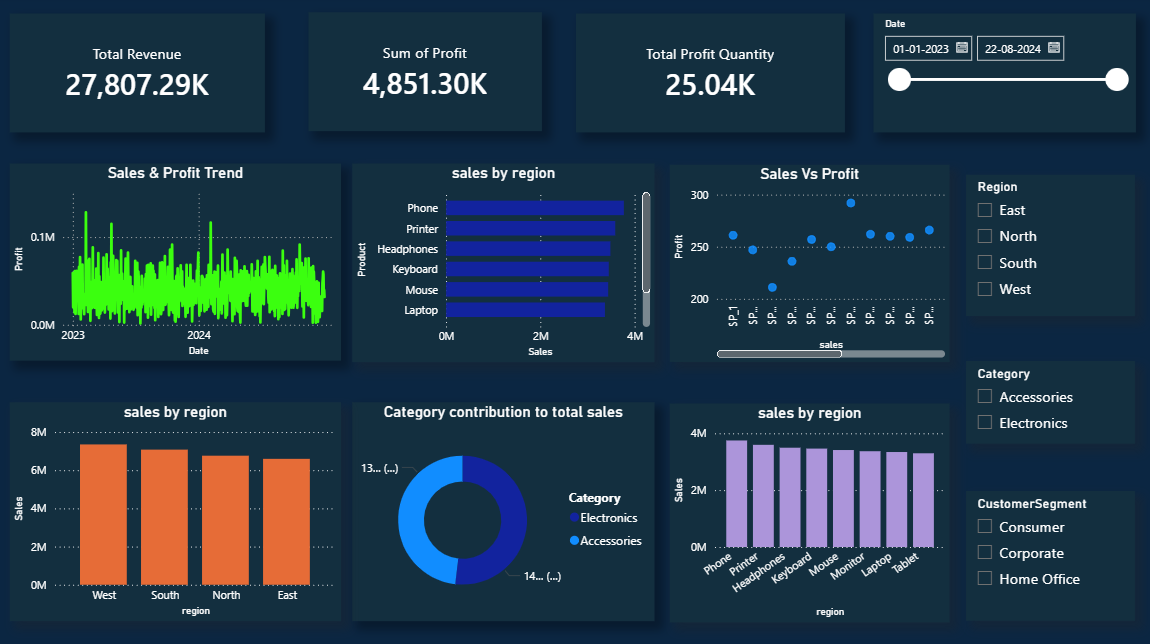

Layout of this report page (visuals, bound fields, positions):
{"tool":"powerbi","page":{"name":"Page 1","canvas":[1280,720],"ordinal":0},"visuals":[{"type":"cardVisual","fields":{"Data":["Sum(sales_dashboard_dataset_5000.SalesAmount)"]},"box":[15.2,19.3,281.4,131.1],"z":0},{"type":"cardVisual","fields":{"Data":["Sum(sales_dashboard_dataset_5000.Profit)"]},"box":[344.9,17.9,258,131.1],"z":1000},{"type":"cardVisual","fields":{"Data":["Sum(sales_dashboard_dataset_5000.Quantity)"]},"box":[640.1,19.3,296.6,131.1],"z":2000},{"type":"slicer","fields":{"Values":["SalesData.Order Date"]},"box":[968.5,19.3,289.7,131.1],"z":3000},{"type":"lineChart","title":"Sales & Profit Trend","fields":{"Y":["Sum(sales_dashboard_dataset_5000.SalesAmount)"],"Category":["sales_dashboard_dataset_5000.Date"]},"box":[15.2,184.9,365.6,218],"z":4000},{"type":"donutChart","title":" Category contribution to total sales ","fields":{"Y":["Sum(sales_dashboard_dataset_5000.SalesAmount)"],"Category":["sales_dashboard_dataset_5000.Category"]},"box":[393.2,448.4,333.9,241.4],"z":5000},{"type":"slicer","fields":{"Values":["sales_dashboard_dataset_5000.Region"]},"box":[1070.6,197.3,186.2,155.9],"z":6000},{"type":"slicer","fields":{"Values":["sales_dashboard_dataset_5000.Category"]},"box":[1070.6,402.8,186.2,91.1],"z":7000},{"type":"slicer","fields":{"Values":["sales_dashboard_dataset_5000.CustomerSegment"]},"box":[1070.6,546.3,186.2,143.5],"z":8000},{"type":"columnChart","title":"sales by region","fields":{"Category":["sales_dashboard_dataset_5000.Region"],"Y":["Sum(sales_dashboard_dataset_5000.SalesAmount)"]},"box":[15.2,448.4,365.6,241.4],"z":9000},{"type":"clusteredBarChart","title":"sales by region","fields":{"Category":["sales_dashboard_dataset_5000.Product"],"Y":["Sum(sales_dashboard_dataset_5000.SalesAmount)"]},"box":[393.2,184.9,333.9,219.4],"z":10000},{"type":"scatterChart","title":"Sales Vs Profit","fields":{"Y":["Count(sales_dashboard_dataset_5000.Profit)"],"X":["sales_dashboard_dataset_5000.Salesperson"]},"box":[743.6,186.2,309,218],"z":10001},{"type":"columnChart","title":"sales by region","fields":{"Category":["sales_dashboard_dataset_5000.Product"],"Y":["Sum(sales_dashboard_dataset_5000.Target)"]},"box":[743.6,449.8,309,241.4],"z":10002}]}

Visuals, with their boxes in screenshot pixels (x1, y1, x2, y2), scaled from the page's 1280x720 canvas onto the 1150x644 screenshot:
cardVisual - Sum(sales_dashboard_dataset_5000.SalesAmount): bbox(14, 17, 266, 135)
cardVisual - Sum(sales_dashboard_dataset_5000.Profit): bbox(310, 16, 542, 133)
cardVisual - Sum(sales_dashboard_dataset_5000.Quantity): bbox(575, 17, 842, 135)
slicer - SalesData.Order Date: bbox(870, 17, 1130, 135)
"Sales & Profit Trend" lineChart: bbox(14, 165, 342, 360)
" Category contribution to total sales " donutChart: bbox(353, 401, 653, 617)
slicer - sales_dashboard_dataset_5000.Region: bbox(962, 176, 1129, 316)
slicer - sales_dashboard_dataset_5000.Category: bbox(962, 360, 1129, 442)
slicer - sales_dashboard_dataset_5000.CustomerSegment: bbox(962, 489, 1129, 617)
"sales by region" columnChart: bbox(14, 401, 342, 617)
"sales by region" clusteredBarChart: bbox(353, 165, 653, 362)
"Sales Vs Profit" scatterChart: bbox(668, 167, 946, 362)
"sales by region" columnChart: bbox(668, 402, 946, 618)
